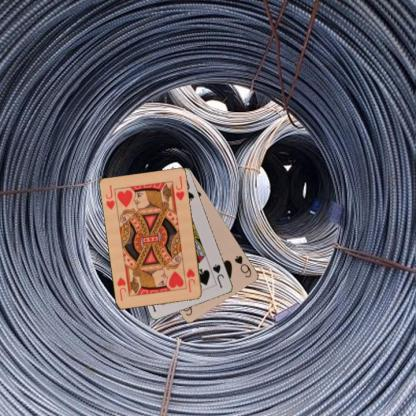6s: (232, 253, 253, 279)
Jh: (103, 183, 119, 212), (184, 266, 196, 294)
Js: (210, 262, 226, 289)
